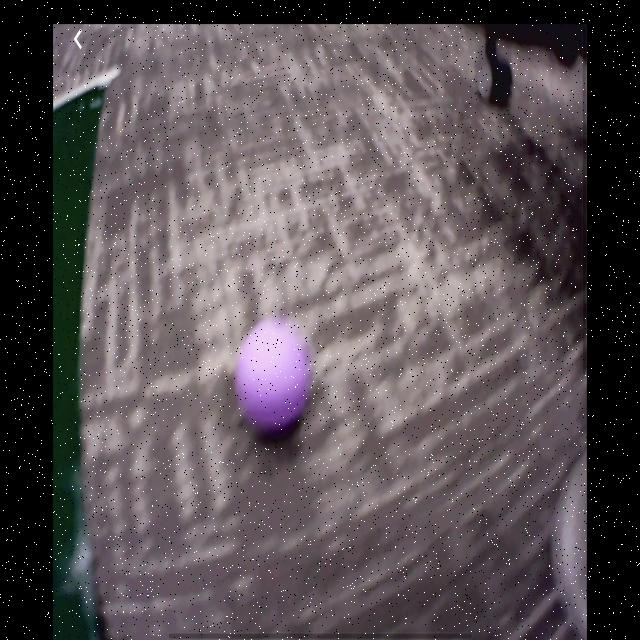ball: (235, 319, 311, 432)
